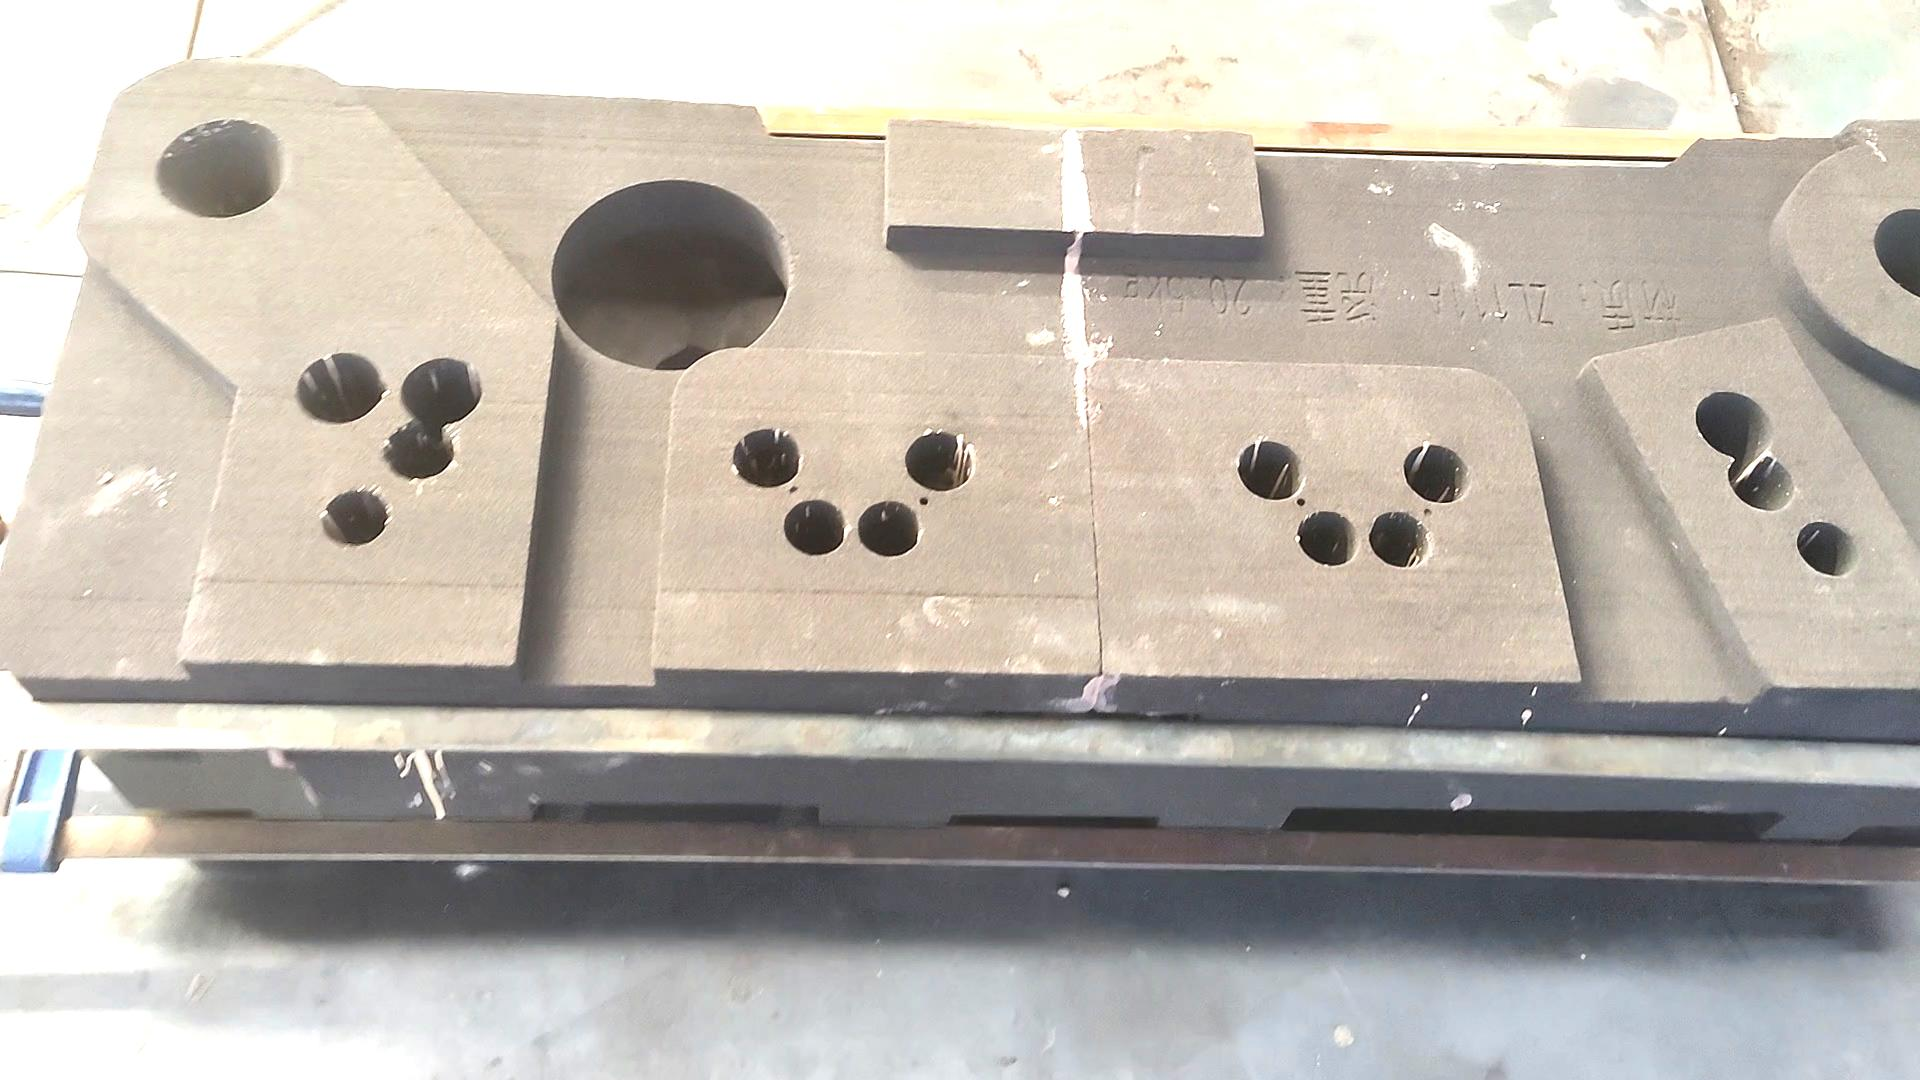pouring hole: (153, 119, 287, 219), (1873, 207, 1920, 301)
